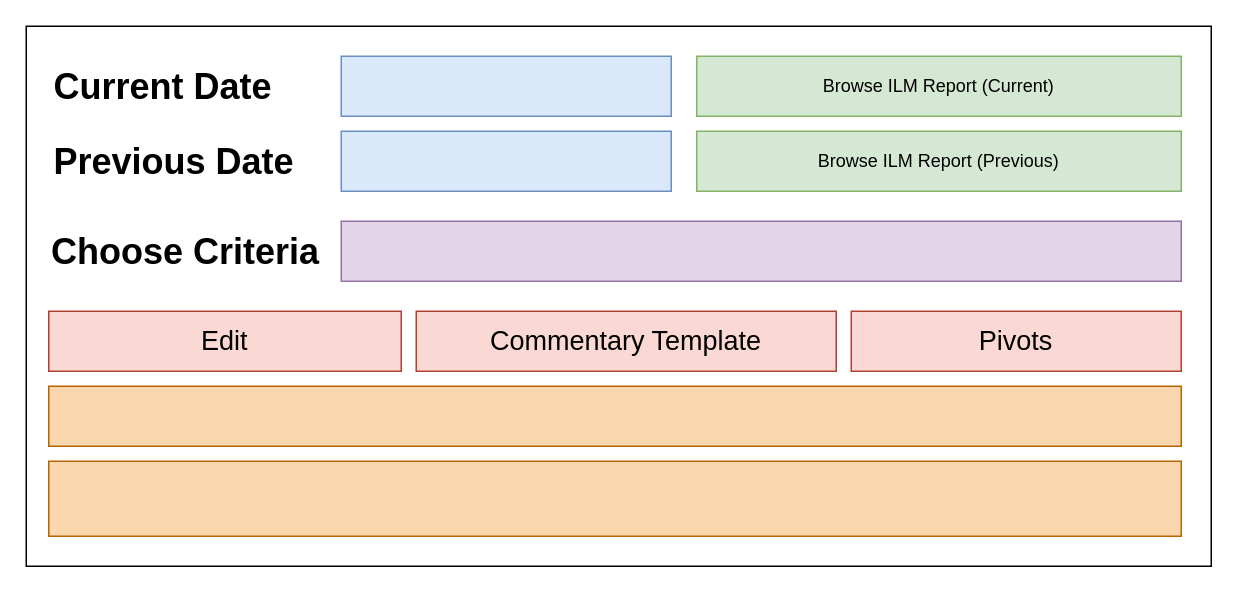
This 1238x593 diagram has some shape labels left out. The shapes that lost their labels are listed below. From the top down, each one's centre as x and y in pixels, then its label:
point 760,250: Choose Criteria
point 614,415: See Variances
point 614,498: Run
